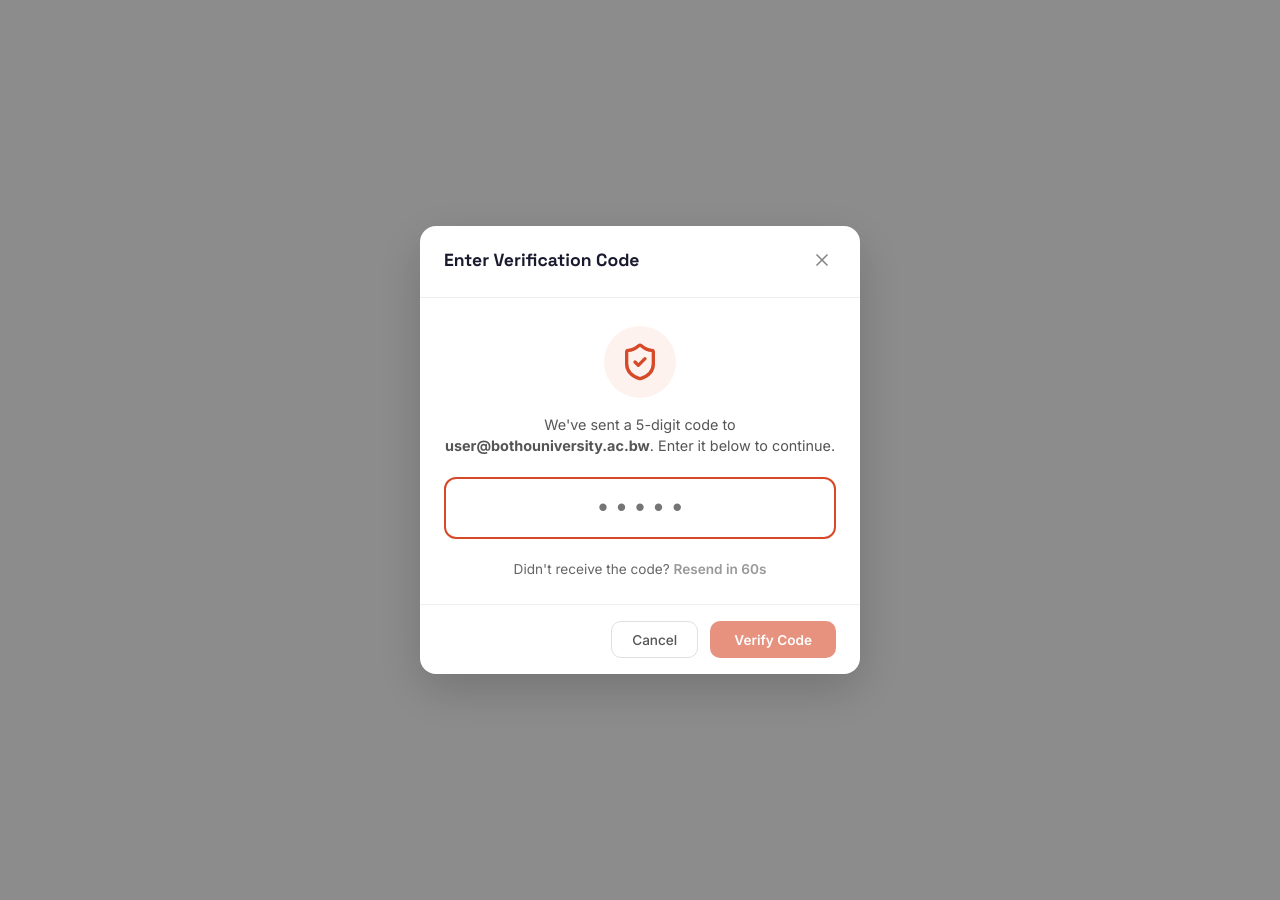
OtpModal › accepts digits only and caps at 5 characters
Type "a1b2c3d4e5f6" into the field named "5-digit verification code" at (640, 508), box [444,477,836,539]
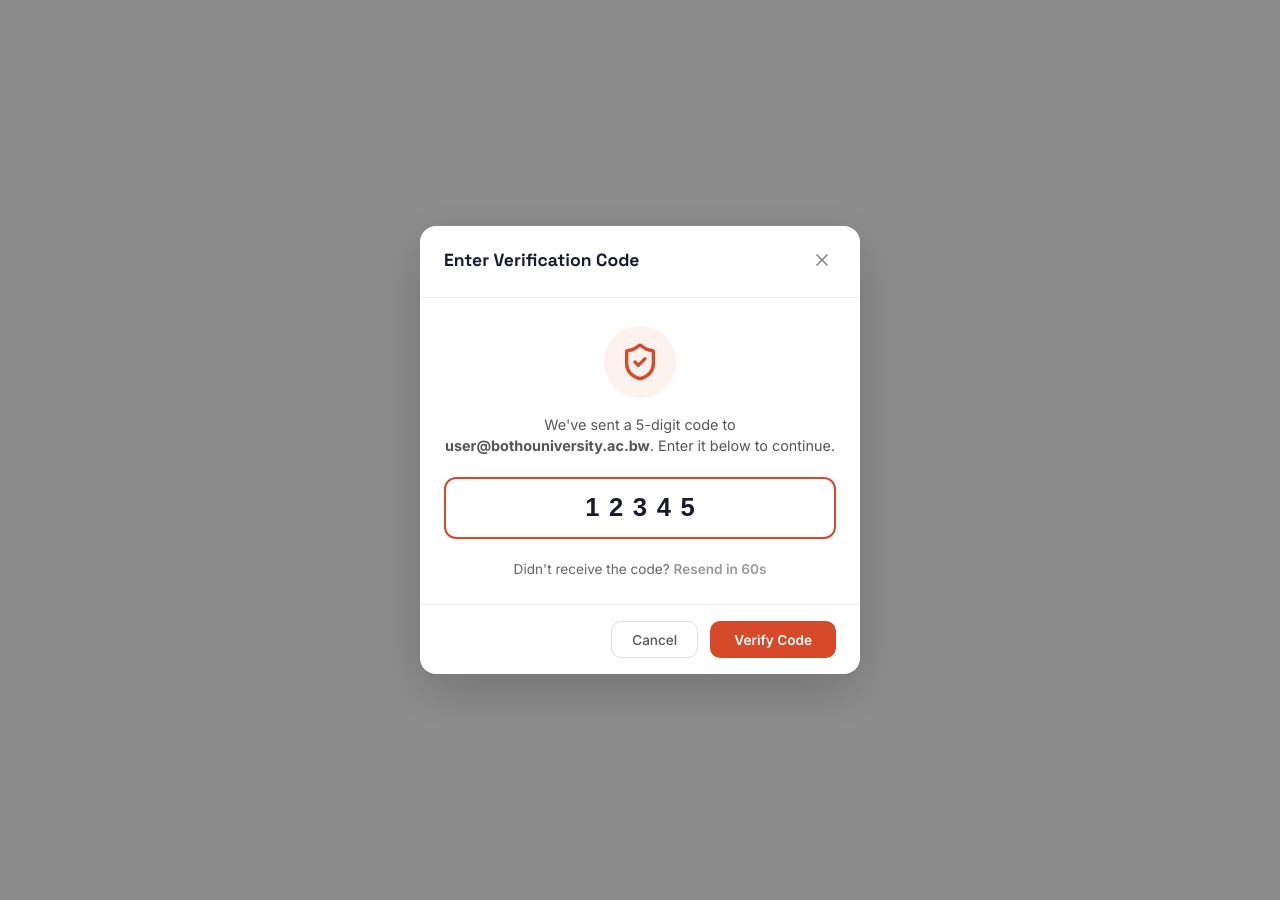
Result: the field named "5-digit verification code" holds "12345" at [444,477,836,539]
